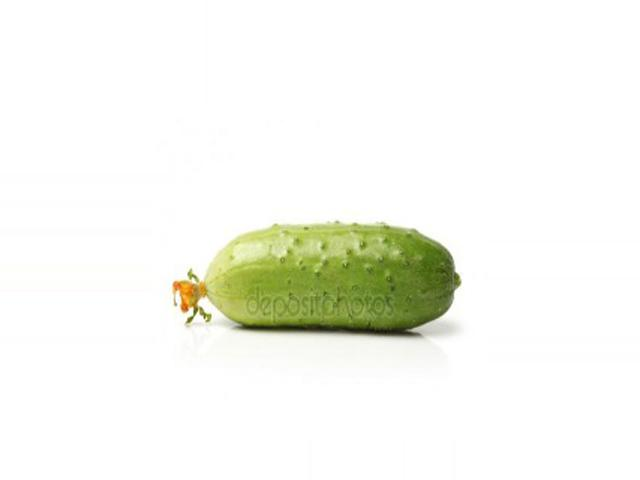cucumber: (174, 223, 462, 334)
